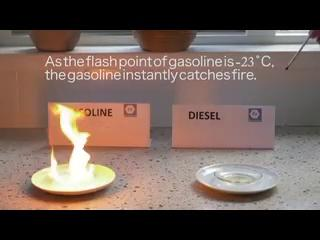Fire: (51, 106, 92, 190)
